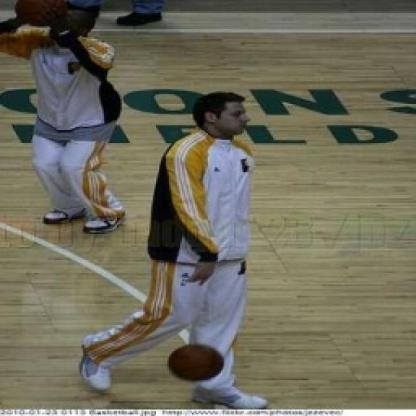basketball: (161, 340, 233, 388)
